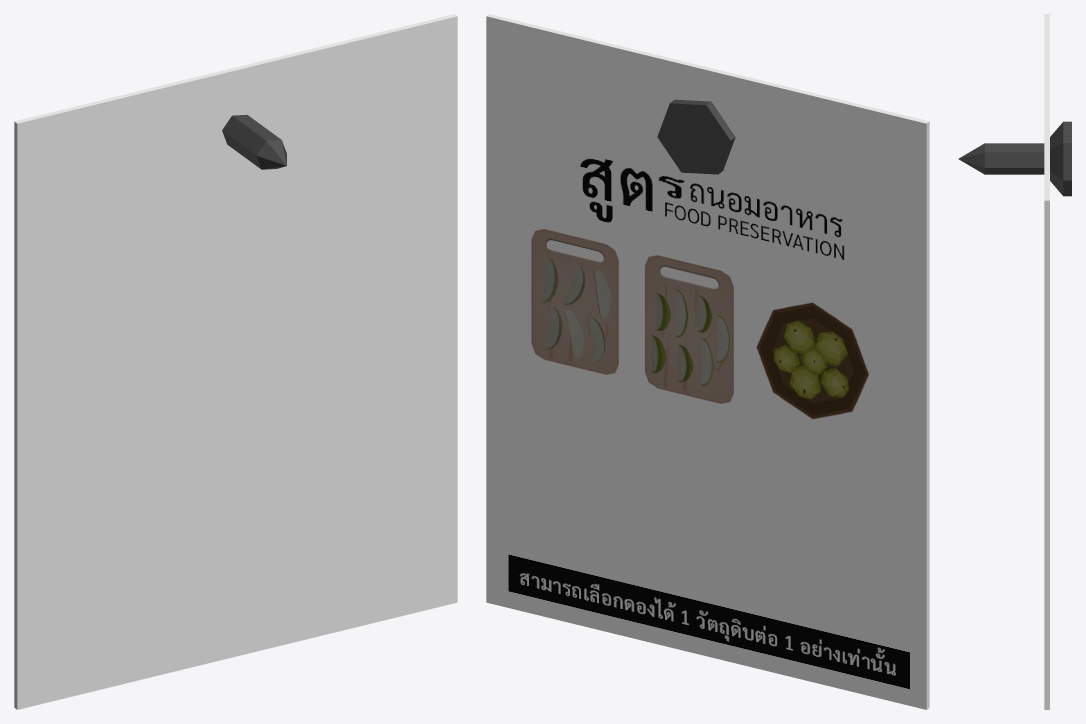
The model's file is Dongrecipe.glb.
3 views of the same model, side by side, from view 1: azimuth 30°, elevation 25°; view 2: azimuth 150°, elevation 25°; view 3: azimuth 270°, elevation 25° (orthographic). The views are drawn at different scales.
Parts seen in each view (by area): view 1: Cylinder; view 2: Cylinder; view 3: Cylinder.
Boxes of the visible parts, bbox=[...] form: Cylinder: bbox=[14, 14, 457, 709]; Cylinder: bbox=[486, 14, 929, 709]; Cylinder: bbox=[958, 14, 1071, 709].
Size of the model in its own units: 1.57 by 2 by 0.4053.
Materials: 2 (1 with a texture image).
